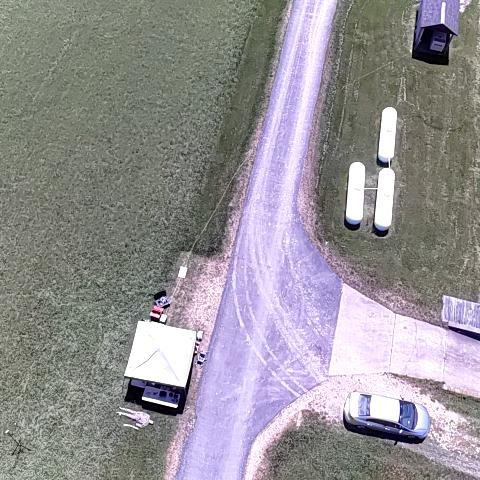person: (115, 406, 154, 428)
